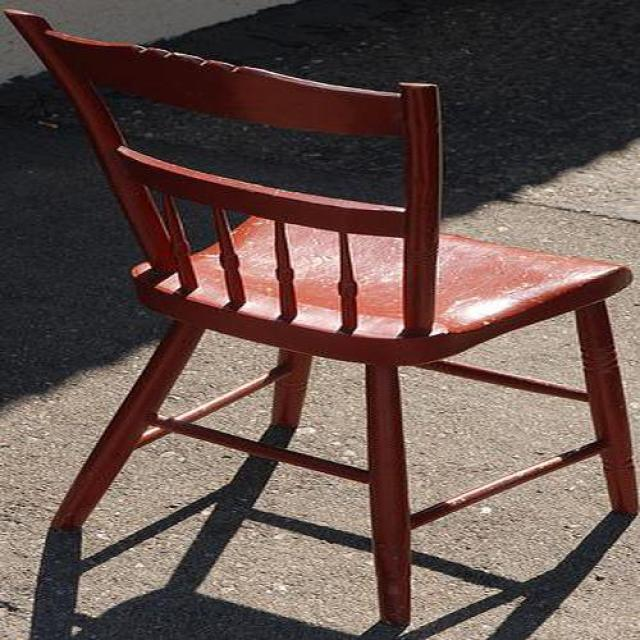chair: (5, 13, 640, 630)
